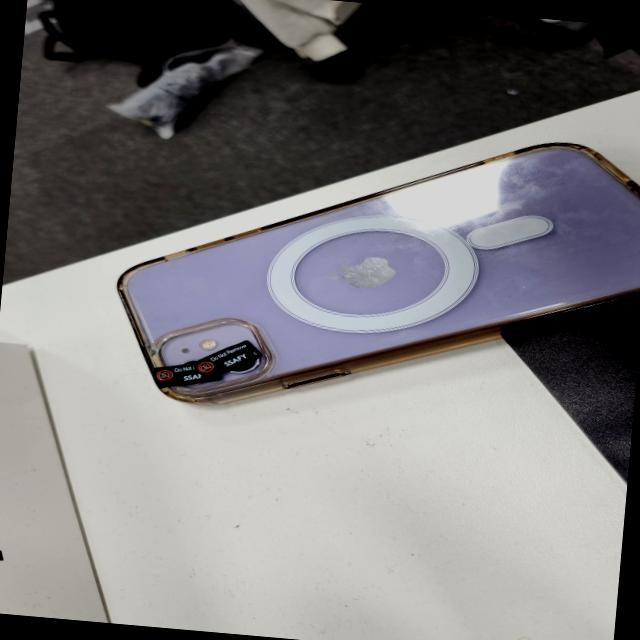phone: (108, 105, 640, 440)
sticker: (191, 336, 264, 378), (150, 358, 224, 392)
